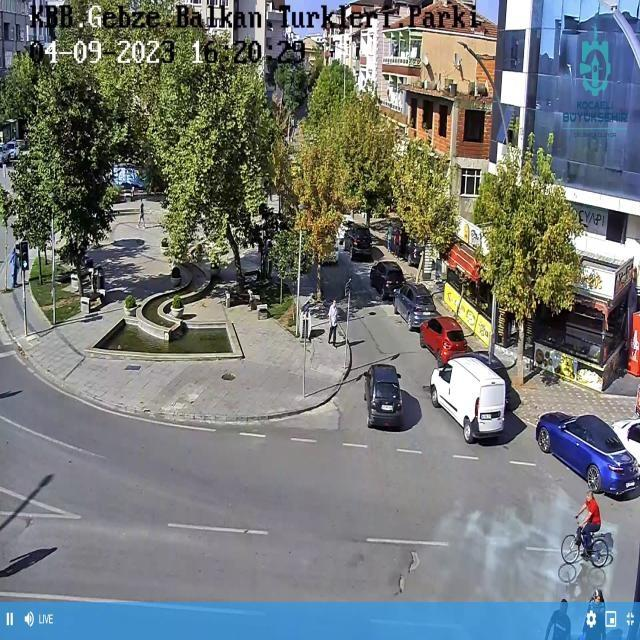Car: (529, 411, 640, 497), (361, 357, 409, 432), (419, 318, 476, 362), (395, 283, 440, 329), (371, 258, 407, 298), (344, 224, 376, 263)
Cycle: (554, 494, 619, 578)
Van: (420, 358, 518, 442)
